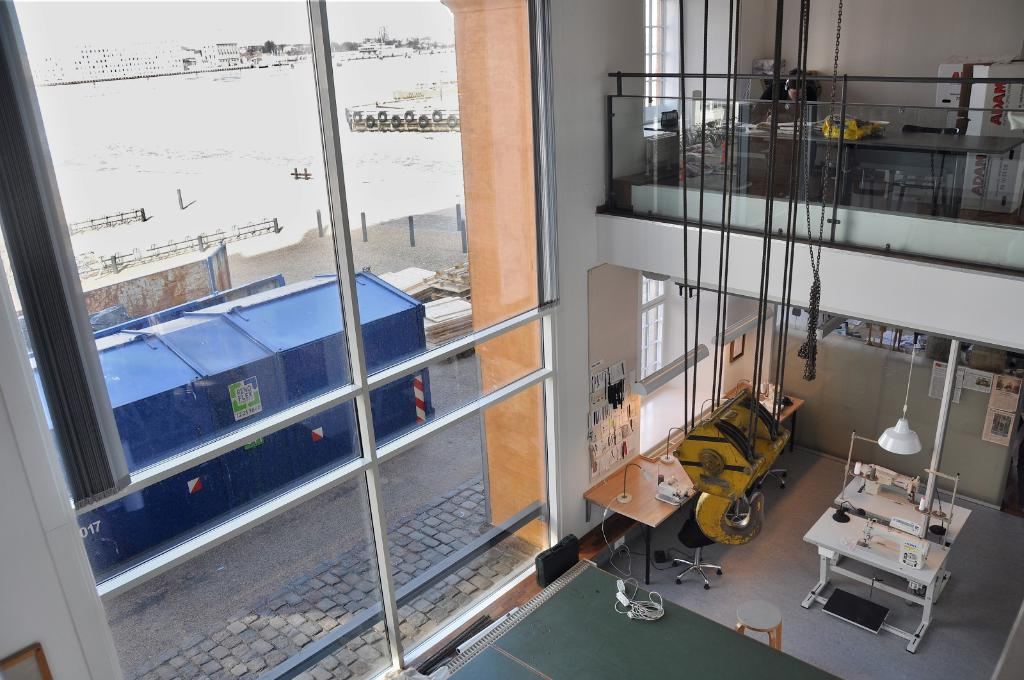Window: (0, 0, 572, 679), (639, 0, 676, 106), (645, 271, 661, 367)
